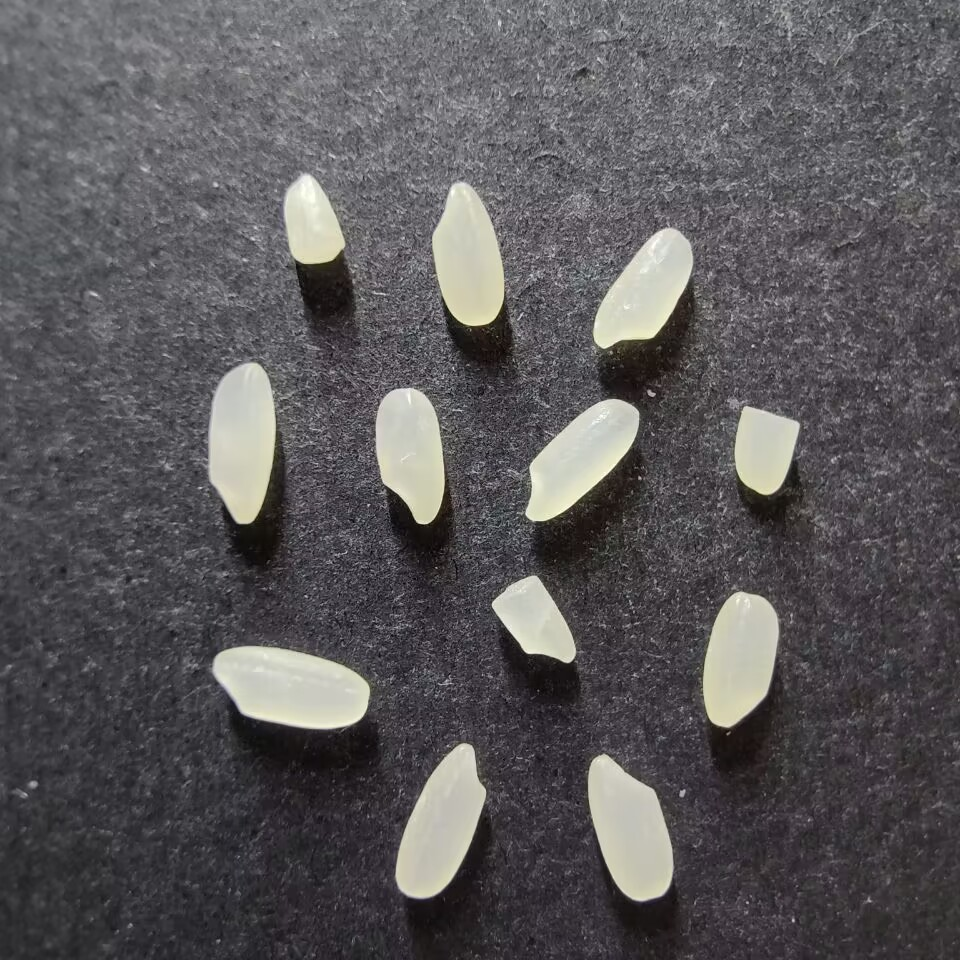broken: (490, 575, 577, 663), (733, 405, 799, 494), (283, 174, 346, 265)
rice: (394, 742, 487, 899), (524, 398, 640, 522), (211, 645, 369, 730), (587, 754, 673, 901), (592, 228, 692, 349), (207, 361, 276, 524), (701, 591, 779, 727), (431, 182, 504, 326), (374, 387, 445, 525)
